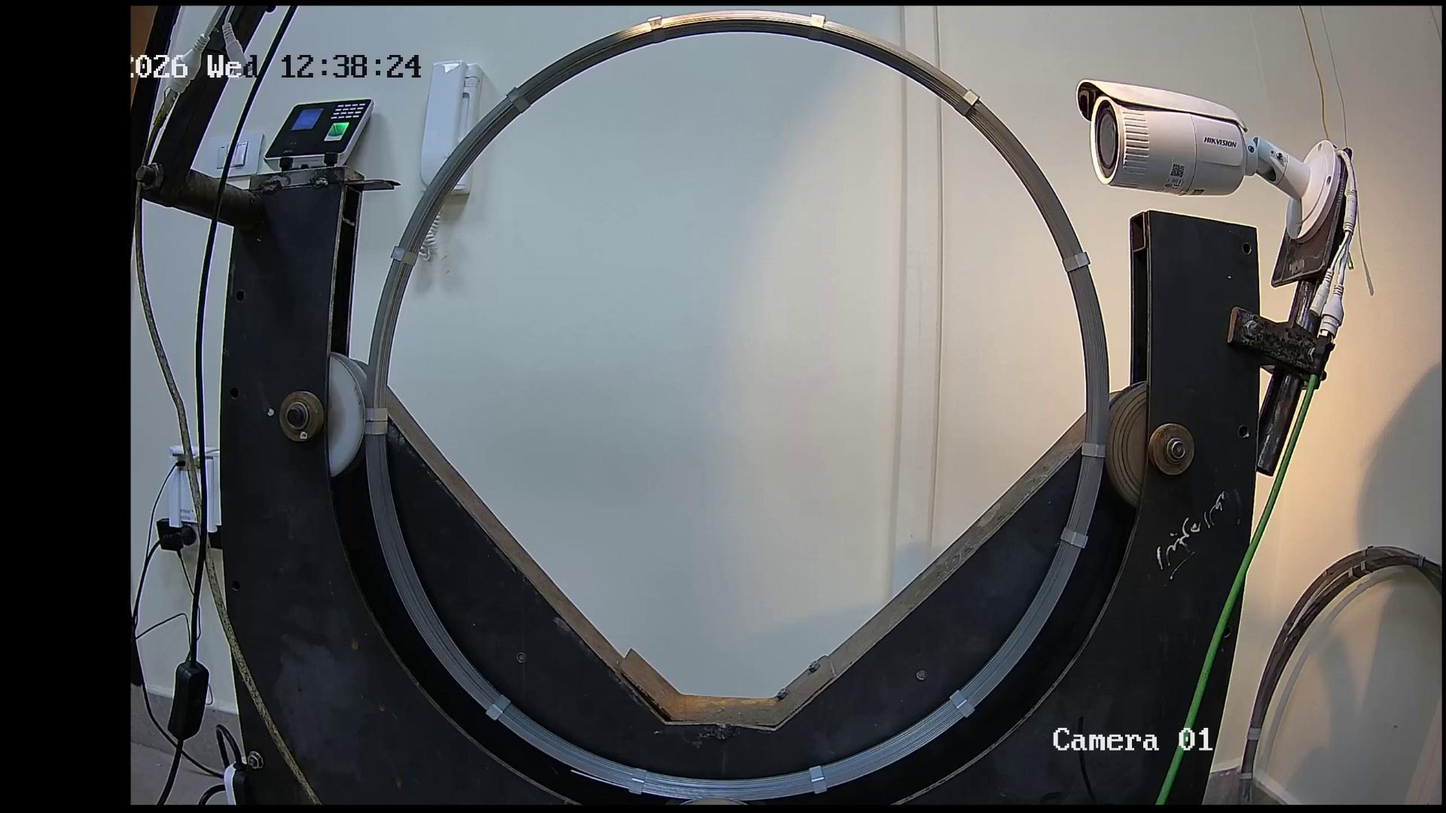clamp: (1054, 506, 1094, 555), (793, 11, 836, 51), (949, 81, 979, 126), (392, 233, 422, 273), (951, 681, 977, 725), (505, 81, 531, 122), (623, 762, 651, 800), (482, 685, 505, 728), (1062, 252, 1101, 277), (642, 13, 663, 56), (1077, 442, 1109, 470), (806, 757, 823, 802), (363, 412, 394, 425), (371, 425, 390, 444)
